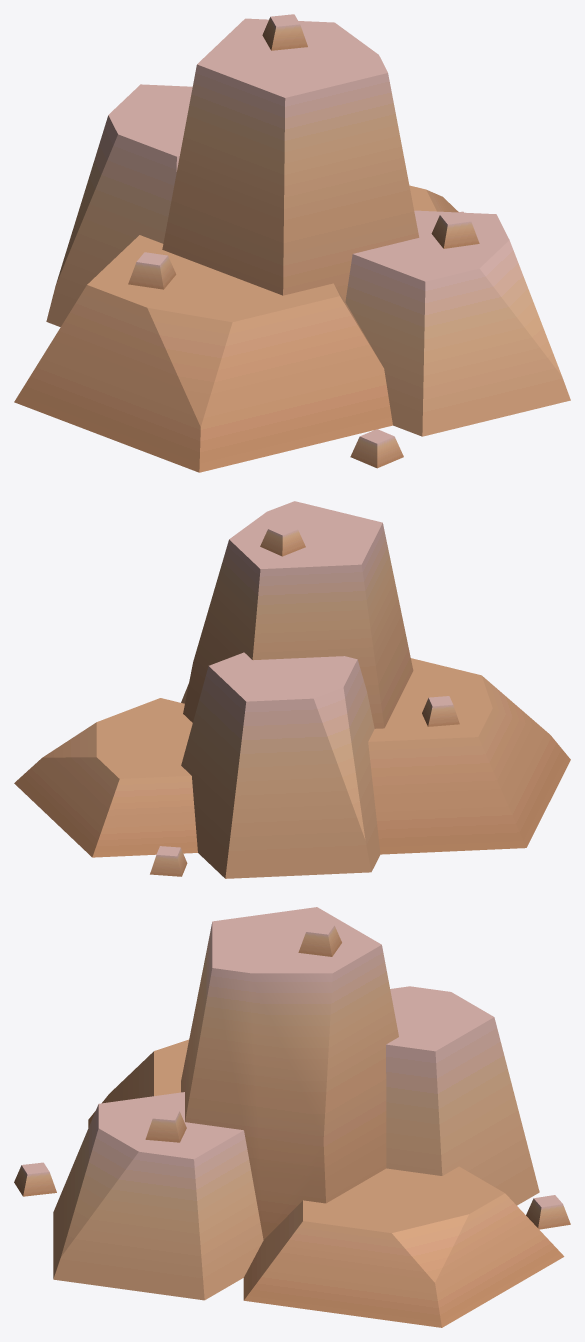
File: rock-sand-b.glb
The picture shows the model from 3 angles, top to bottom: view 1: azimuth 30°, elevation 25°; view 2: azimuth 150°, elevation 25°; view 3: azimuth 270°, elevation 25°; orthographic projection. The views are drawn at different scales.
Visible parts, largest first — view 1: rock-sand-b; view 2: rock-sand-b; view 3: rock-sand-b.
Boxes of the visible parts, x1,y1,x2,y2 form: rock-sand-b: (14, 14, 570, 472); rock-sand-b: (14, 501, 570, 878); rock-sand-b: (14, 907, 570, 1327).
Bounding box in the file's own units: 0.7991 × 0.4487 × 0.7895.
1 material, 1 textured.
